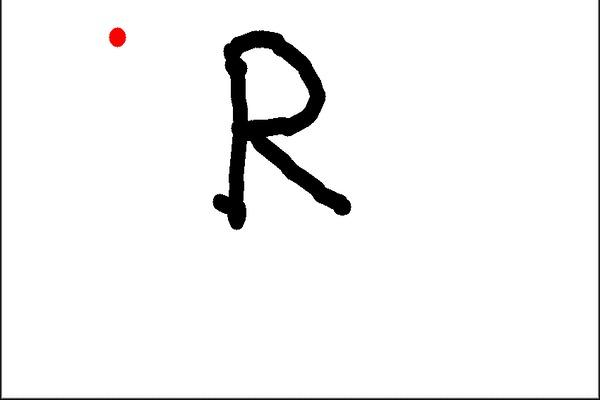R: (207, 25, 362, 236)
